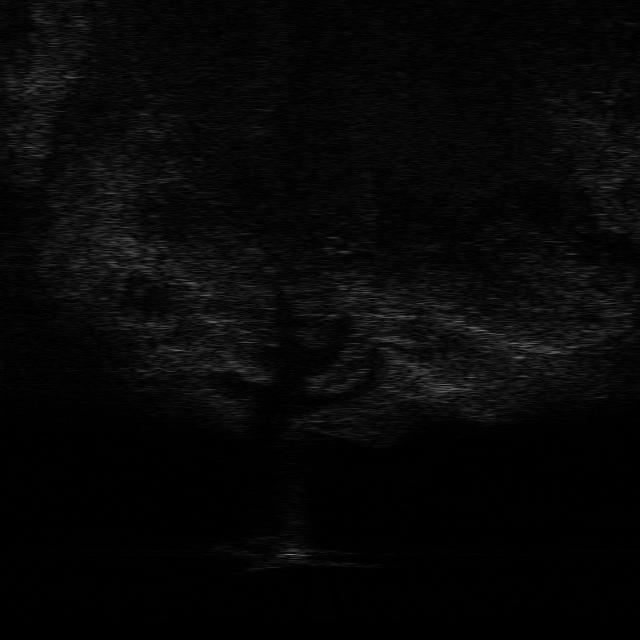plane: (215, 535, 377, 570)
